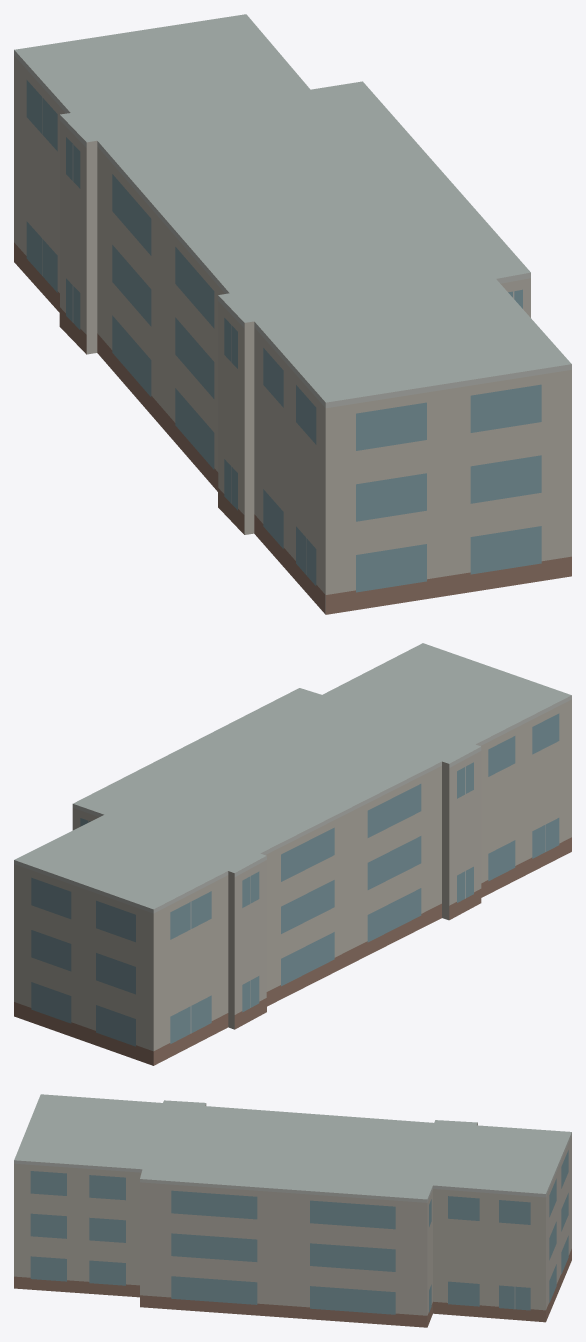
Rendered from survey-upis-32496826.glb.
3 renders of one model, top to bottom at view 1: azimuth 30°, elevation 25°; view 2: azimuth 150°, elevation 25°; view 3: azimuth 270°, elevation 25°, orthographic. The views are drawn at different scales.
Parts seen in each view (by area): view 1: survey-upis-32496826.tmp; view 2: survey-upis-32496826.tmp; view 3: survey-upis-32496826.tmp.
Boxes of the visible parts, x1,y1,x2,y2 form: survey-upis-32496826.tmp: [14, 14, 571, 614]; survey-upis-32496826.tmp: [14, 643, 571, 1065]; survey-upis-32496826.tmp: [14, 1094, 571, 1327].
Bounding box in the file's own units: 16.12 × 9.15 × 36.09.
